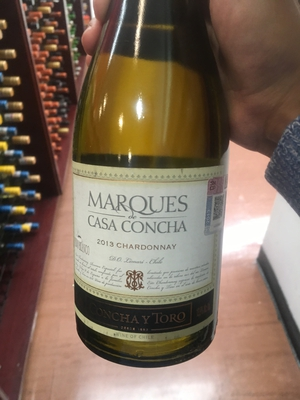marques de casa concha chardonnay: (63, 18, 242, 344)
